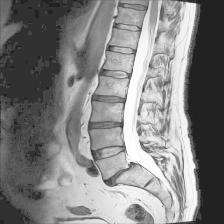disc: (86, 116, 125, 135), (90, 143, 127, 162), (97, 64, 133, 83), (90, 92, 128, 108), (105, 42, 136, 60), (112, 20, 142, 36), (119, 1, 150, 15)
